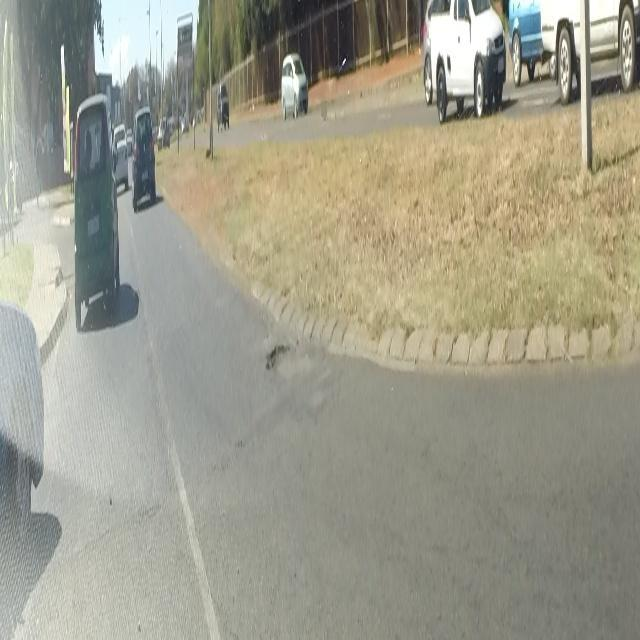pothole: (264, 332, 311, 396)
